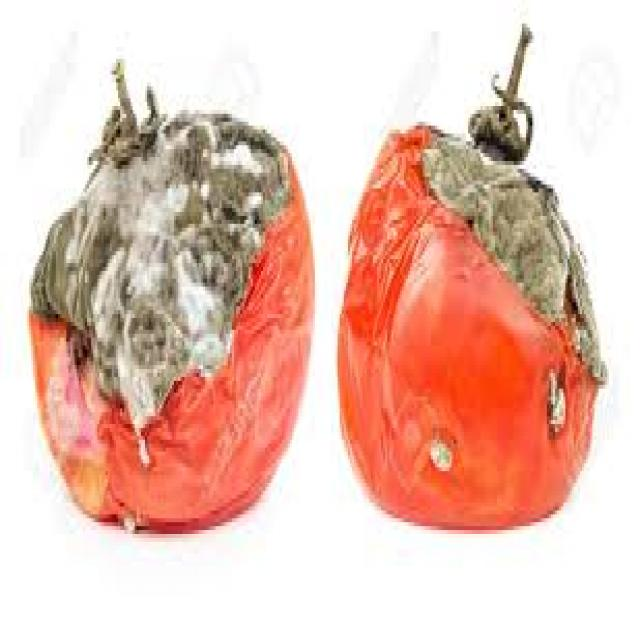organic waste: (333, 20, 605, 534), (25, 51, 313, 530)
